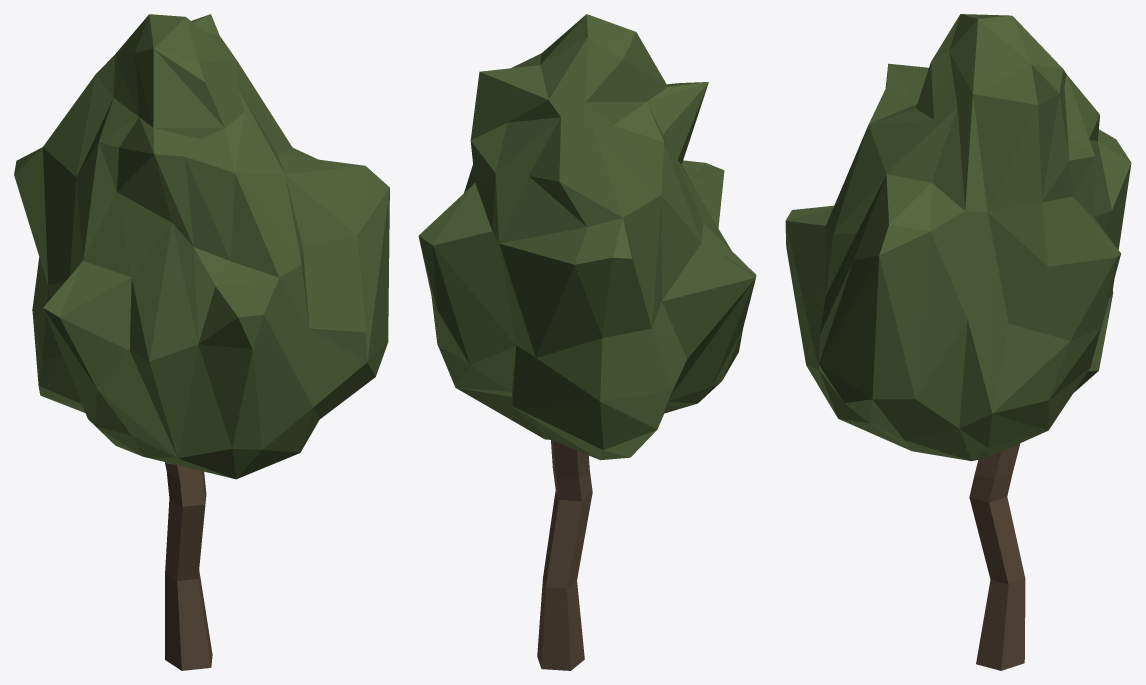
File: Tree_067.fbx
The picture shows the model from 3 angles, left to right: view 1: azimuth 30°, elevation 25°; view 2: azimuth 150°, elevation 25°; view 3: azimuth 270°, elevation 25°; orthographic projection. The views are drawn at different scales.
Visible parts, largest first — view 1: Tree_067; view 2: Tree_067; view 3: Tree_067.
Boxes of the visible parts, bbox=[...] form: Tree_067: bbox=[14, 14, 389, 670]; Tree_067: bbox=[418, 14, 756, 670]; Tree_067: bbox=[785, 14, 1131, 670].
Bounding box in the file's own units: 0.9076 × 1.83 × 0.9066.
1 material, 1 textured.
